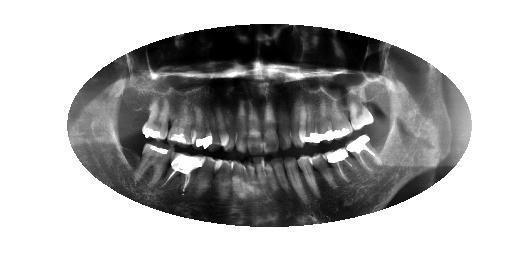Fillings: (135, 93, 170, 141), (190, 96, 217, 149), (310, 97, 334, 144)
Implant: (164, 151, 196, 208), (347, 133, 387, 174), (325, 149, 358, 181)
